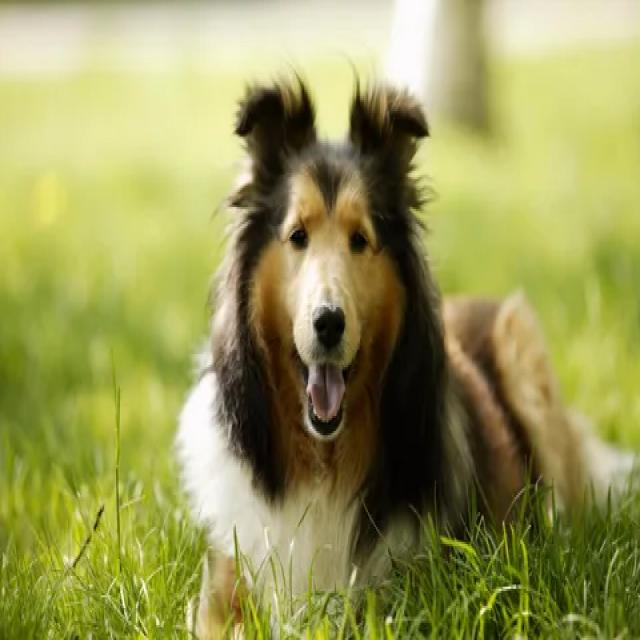Dog: (226, 63, 425, 574)
